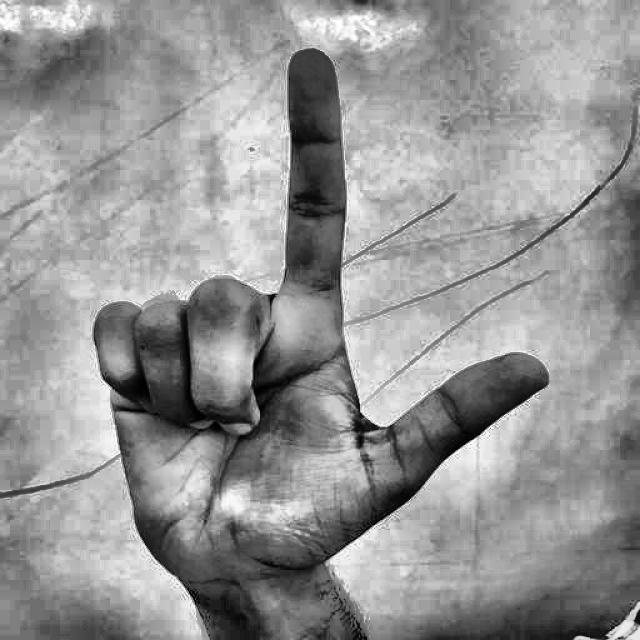La: (34, 22, 569, 634)
